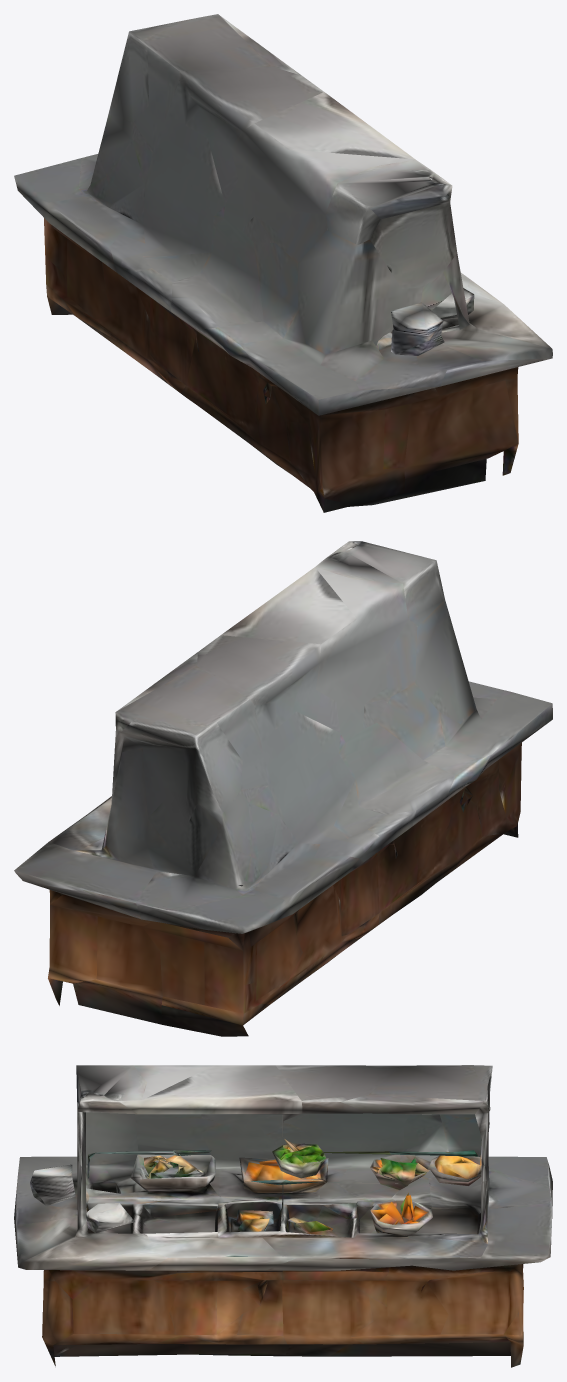
File: innen_buffet.glb
3 views of the same model, one above another, from view 1: azimuth 30°, elevation 25°; view 2: azimuth 150°, elevation 25°; view 3: azimuth 270°, elevation 25° (orthographic). The views are drawn at different scales.
Visible parts, largest first — view 1: tripo_node_183157b5-8347-4015-9d47-942d5d804392; view 2: tripo_node_183157b5-8347-4015-9d47-942d5d804392; view 3: tripo_node_183157b5-8347-4015-9d47-942d5d804392.
Boxes of the visible parts, <box> form: tripo_node_183157b5-8347-4015-9d47-942d5d804392: <box>14,14,552,512</box>; tripo_node_183157b5-8347-4015-9d47-942d5d804392: <box>14,541,552,1036</box>; tripo_node_183157b5-8347-4015-9d47-942d5d804392: <box>14,1065,552,1367</box>.
Size of the model in its own units: 0.4515 by 0.5148 by 0.9991.
1 material, 1 textured.
